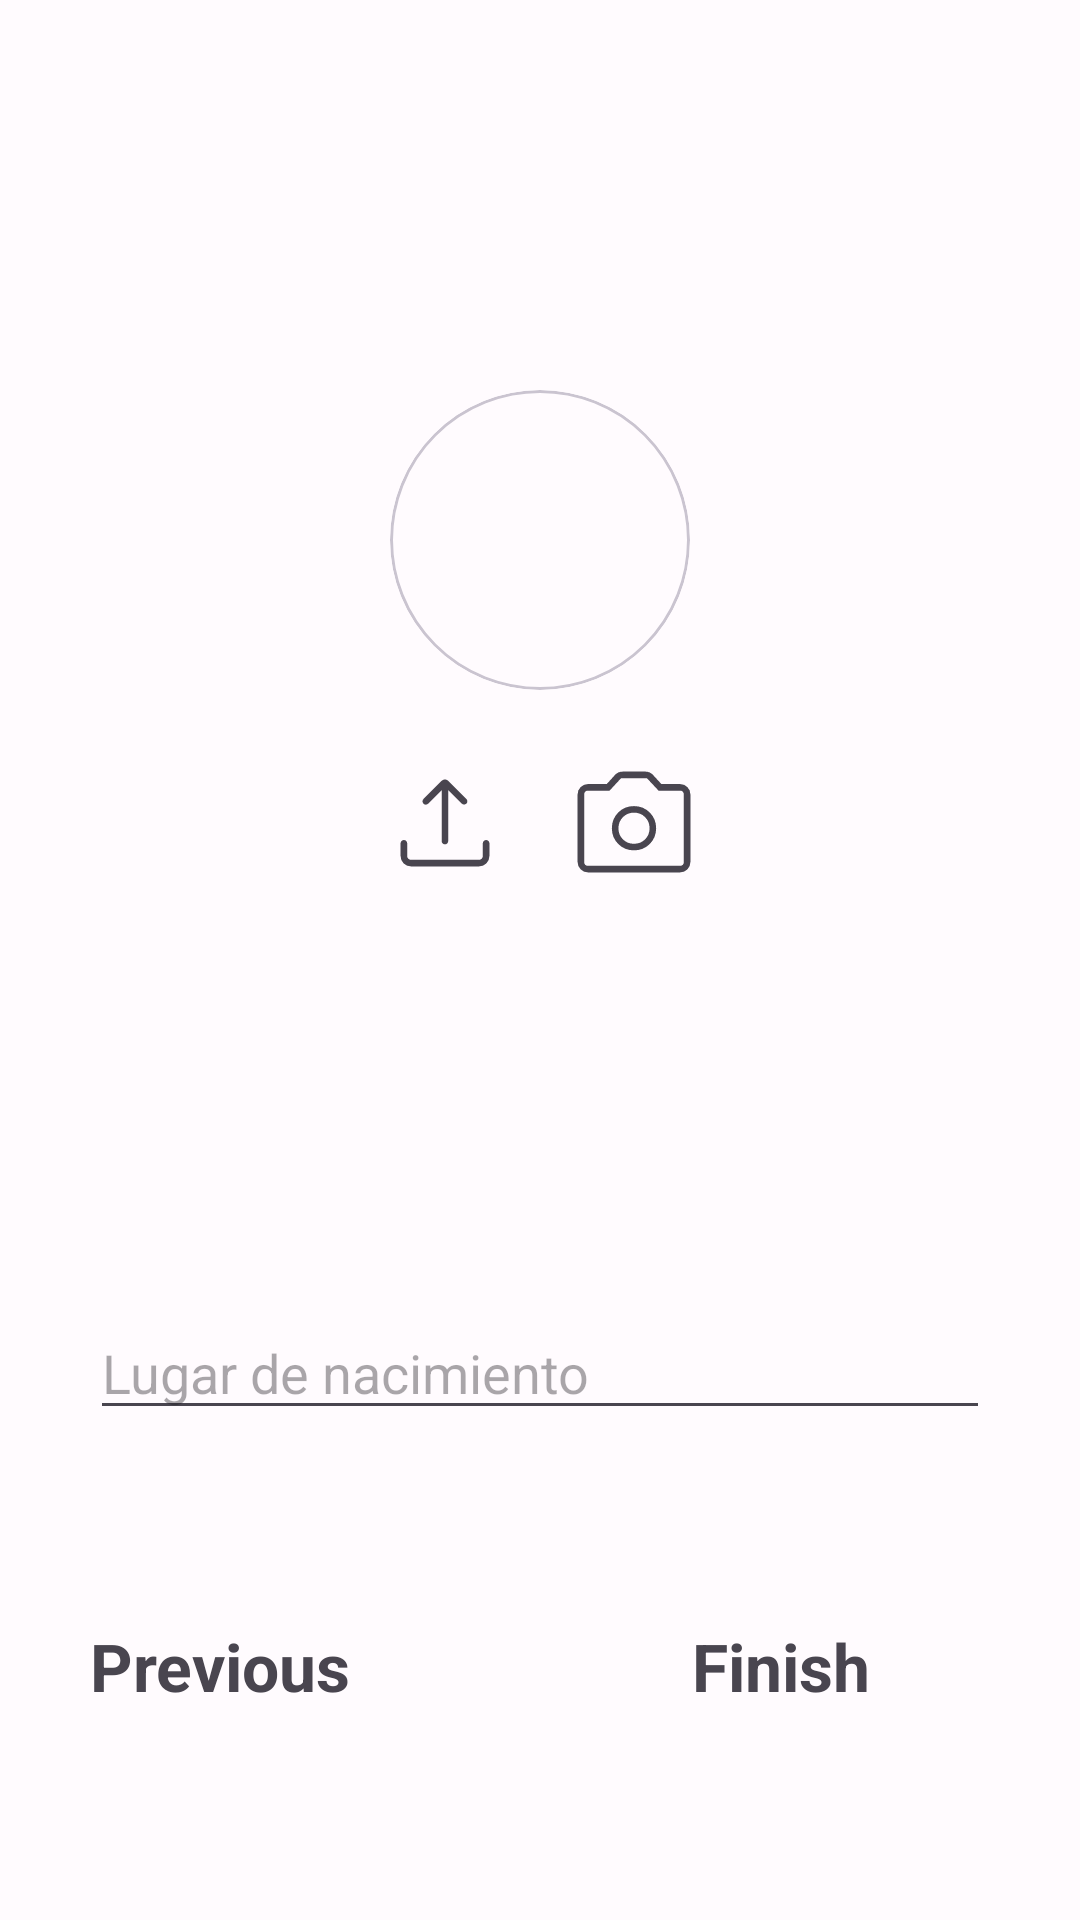

Point at icon controls on the screen. Image size 1080px x 1920px, points as (x=x, y=y).
camera: (x=634, y=822)
upload: (x=445, y=823)
